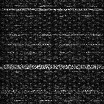lte: (1, 64, 104, 69), (1, 7, 104, 10)
